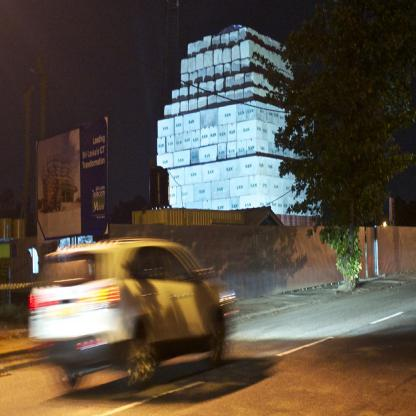Car: (30, 241, 236, 387)
